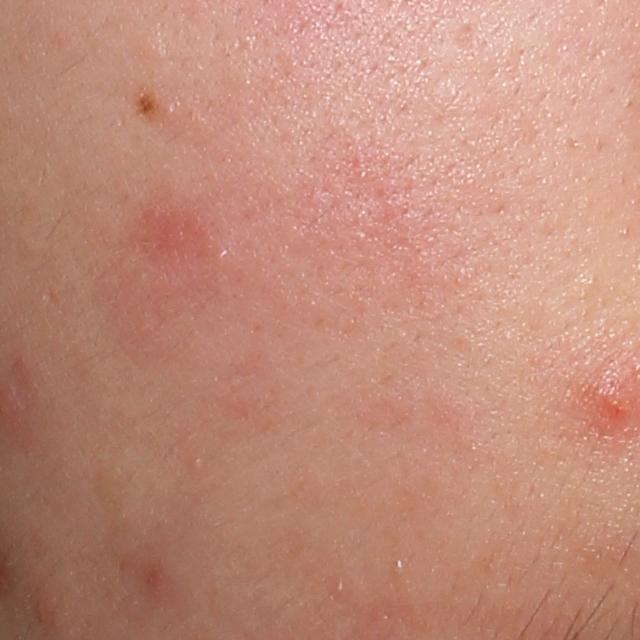comedo: (188, 456, 206, 473)
nevus: (130, 89, 159, 121)
